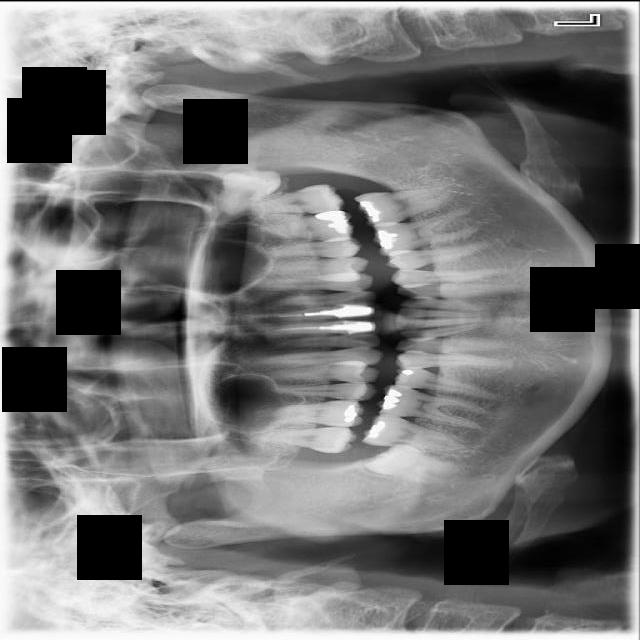52: (368, 212, 427, 259), (353, 188, 407, 227), (360, 412, 416, 448), (375, 383, 429, 418), (305, 208, 354, 244), (318, 397, 365, 429), (328, 314, 383, 336), (394, 364, 434, 391), (333, 300, 382, 319)
73: (267, 305, 339, 325), (268, 320, 335, 338), (553, 42, 563, 48)
BioHorizons Implant: (239, 182, 344, 217)
BioLife Implant: (205, 152, 285, 221)
Blue Sky Bio Implant: (352, 180, 460, 230)
Caries: (249, 417, 358, 456)
Implant: (359, 411, 464, 454)
Keystone Dental Implant: (361, 434, 461, 493)
